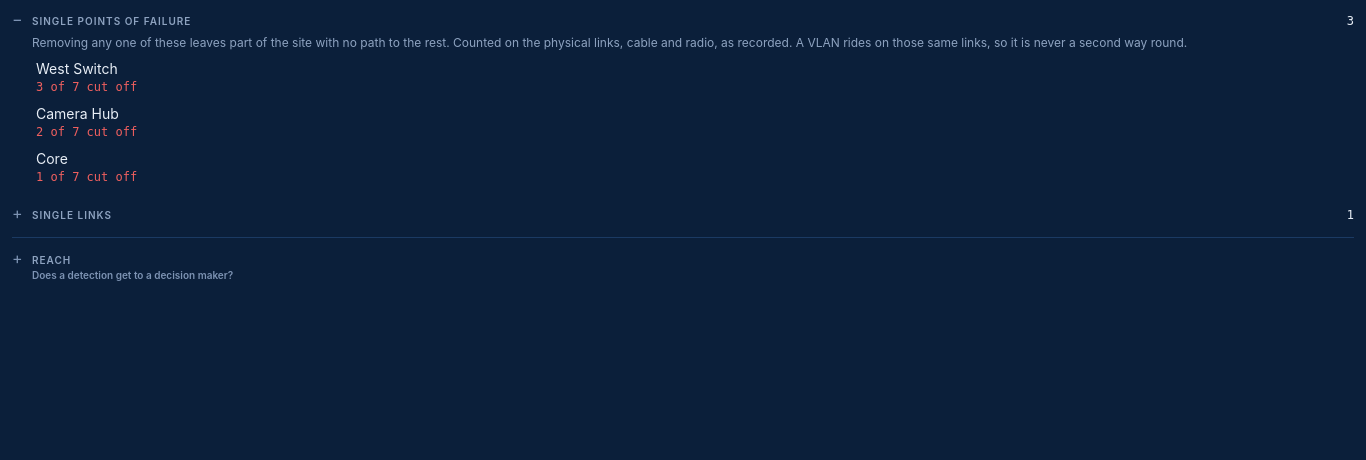
Scenario: Single links › names the devices that hang off a link of their own rather than listing each link
The width and height of the screenshot is (1366, 460).
Click the button "+ Single links 1".
click(72, 215)  # box left=12, top=197, right=1354, bottom=229
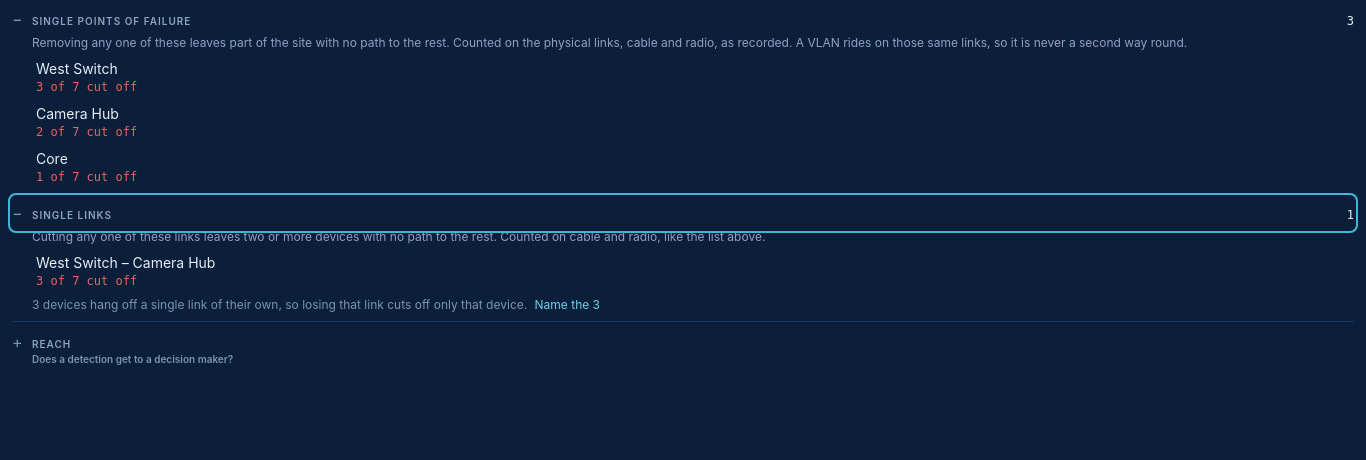
Expected: the text "hang off a single link of their own" shows "3 devices", left=32, top=297, right=527, bottom=312
Click the button "Name the 3".
click(567, 305)  # box left=531, top=297, right=604, bottom=313
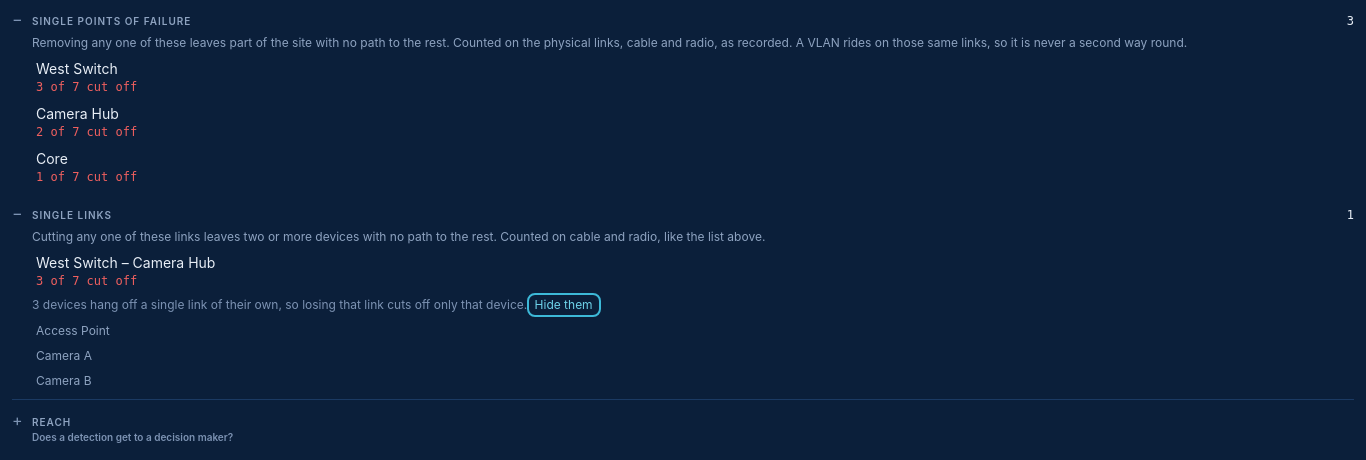
Expected: the button "Access Point" is shown, left=32, top=321, right=1354, bottom=341
Expected: the button "Camera A" is shown, left=32, top=346, right=1354, bottom=366
Expected: the button "Camera B" is shown, left=32, top=371, right=1354, bottom=391
